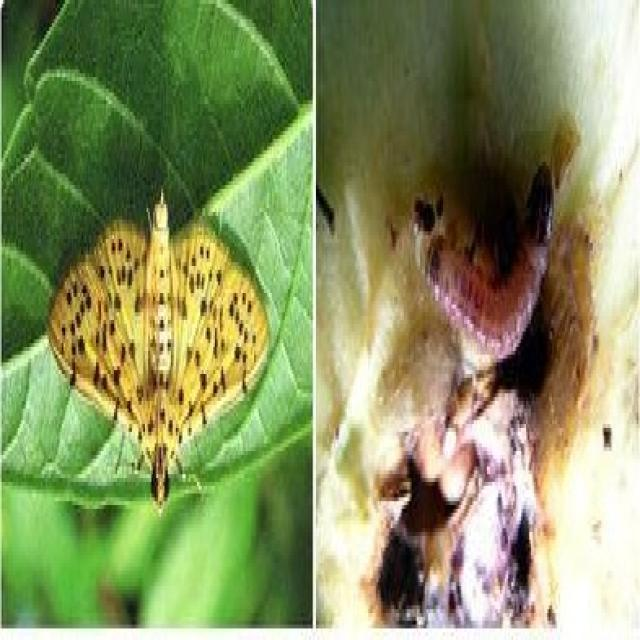peach borer: (40, 190, 271, 514), (416, 198, 564, 360)
